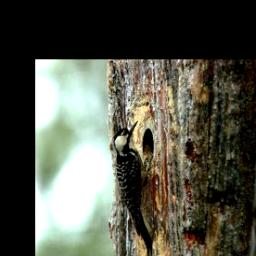Woodpecker: (108, 116, 162, 256)
